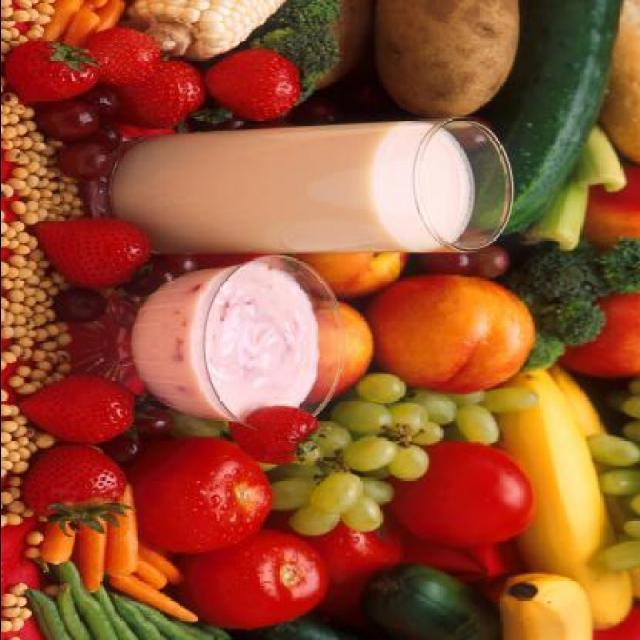Potato: (370, 0, 517, 118)
